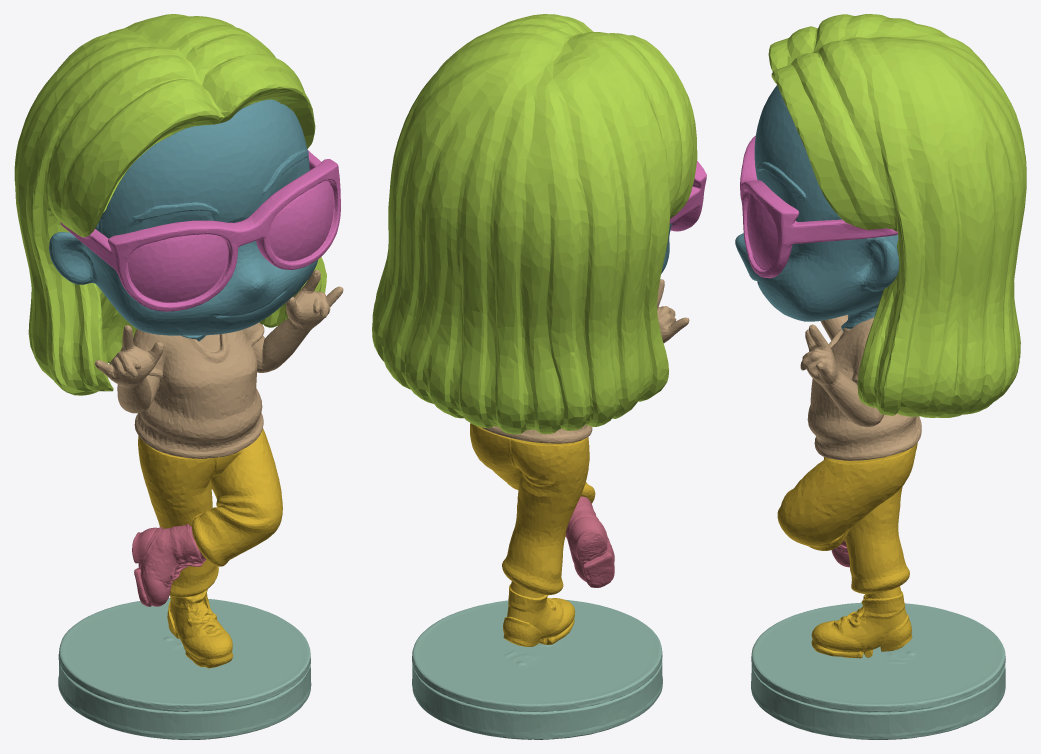
The picture shows the model from 3 angles, left to right: view 1: azimuth 30°, elevation 25°; view 2: azimuth 150°, elevation 25°; view 3: azimuth 270°, elevation 25°; orthographic projection.
Visible parts, largest first — view 1: world; view 2: world; view 3: world.
Boxes of the visible parts, x1,y1,x2,y2 form: world: (14, 14, 343, 739); world: (372, 14, 706, 739); world: (735, 14, 1026, 739).
Size of the model in its own units: 0.9183 by 2 by 0.8144.
